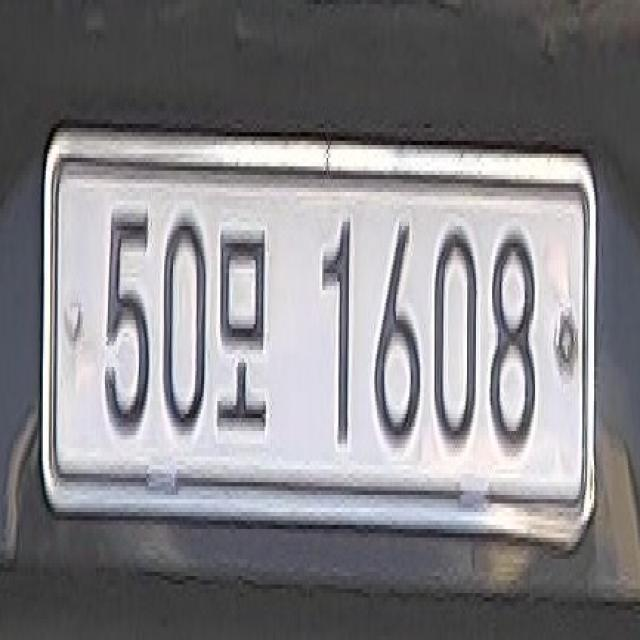0: (429, 218, 479, 464), (160, 208, 210, 452)
1: (320, 208, 356, 465)
5: (104, 205, 154, 440)
6: (372, 206, 422, 462)
8: (486, 199, 546, 467)
license_plate: (35, 115, 603, 580)
mo: (215, 228, 274, 452)
